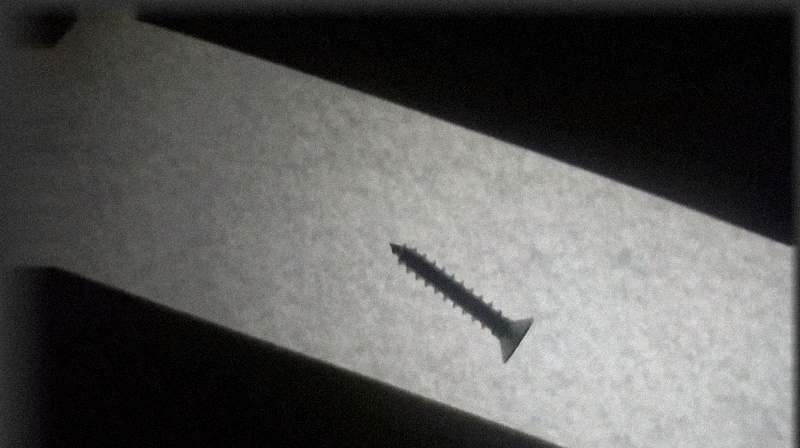S001: (387, 238, 536, 365)
